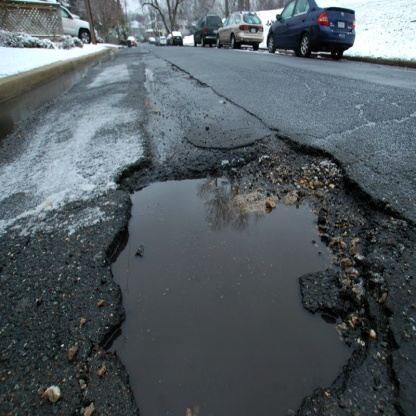pothole: (85, 127, 400, 416)
